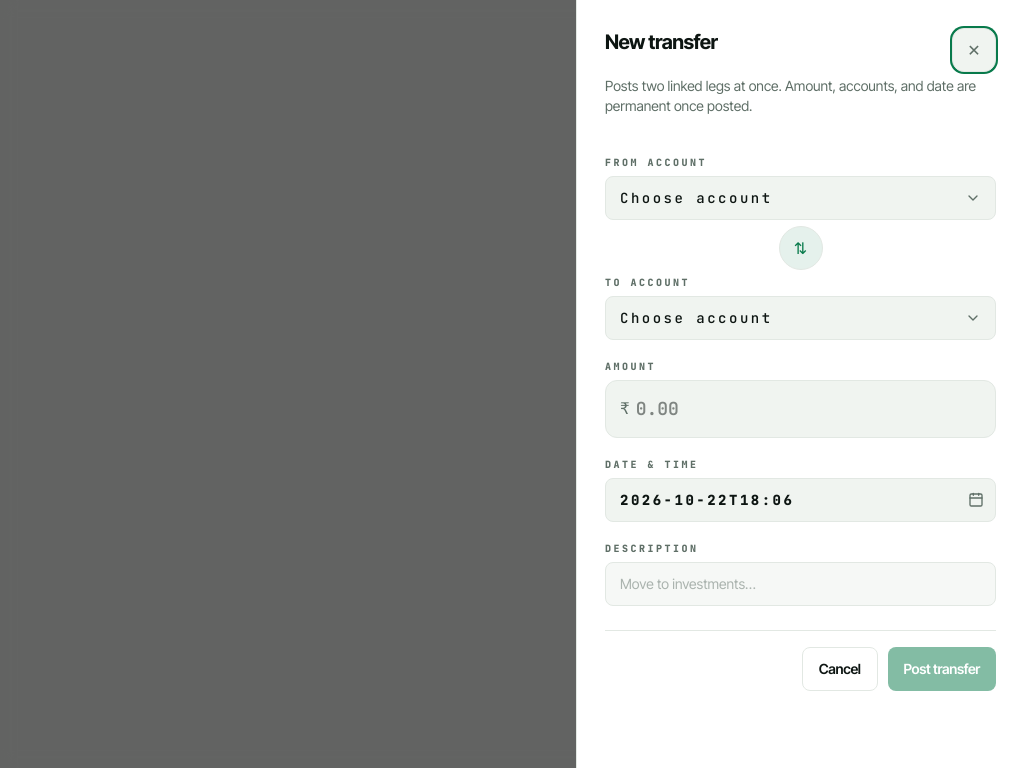
Test: CreateTransferSheet › swaps the from and to accounts
Click the dropdown named "From account" at (696, 198), box [605,176,996,220]
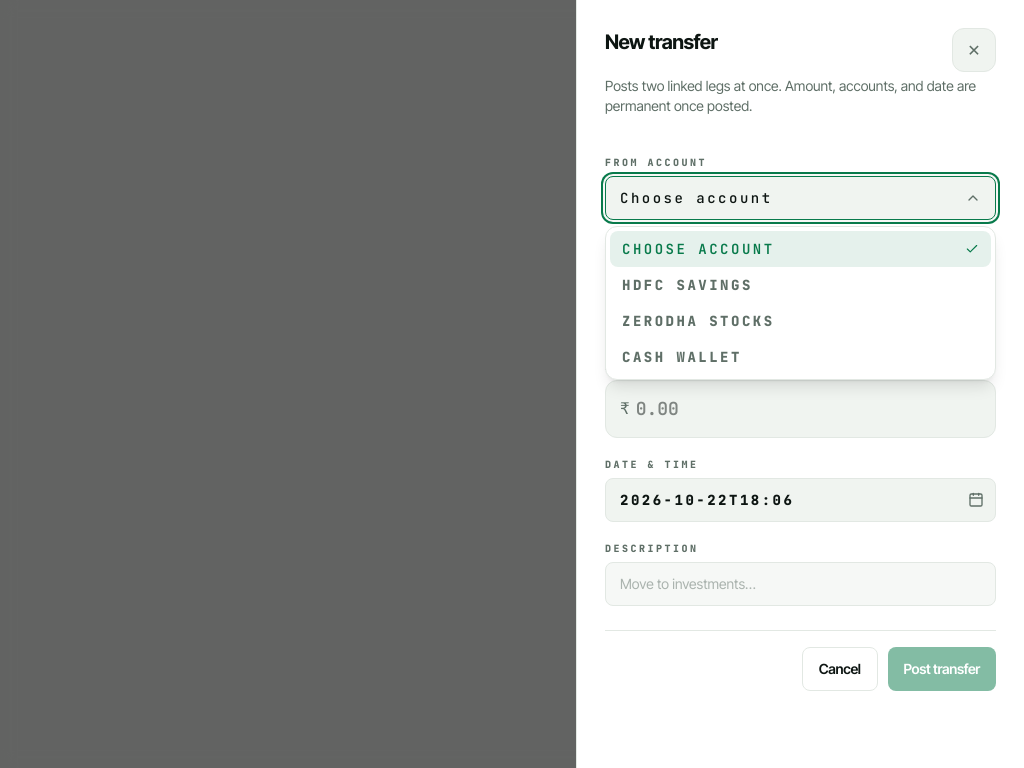
Click the option "HDFC Savings" at (687, 285), box [622,276,753,294]
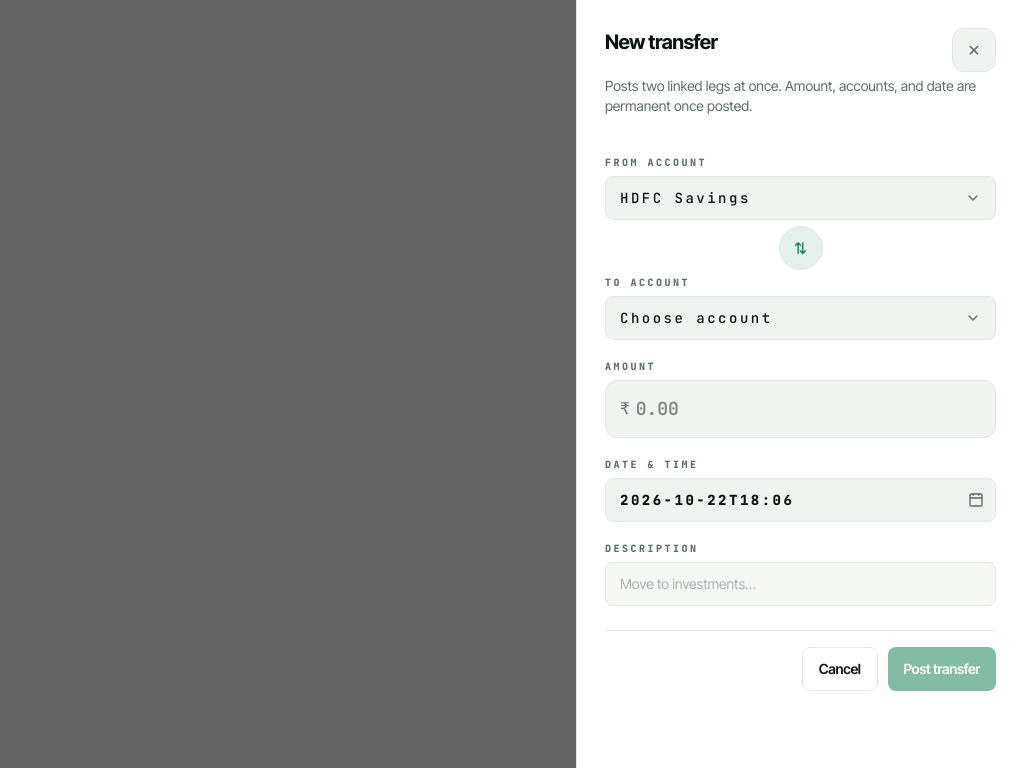
Click the dropdown named "To account" at (696, 318), box [605,296,996,340]
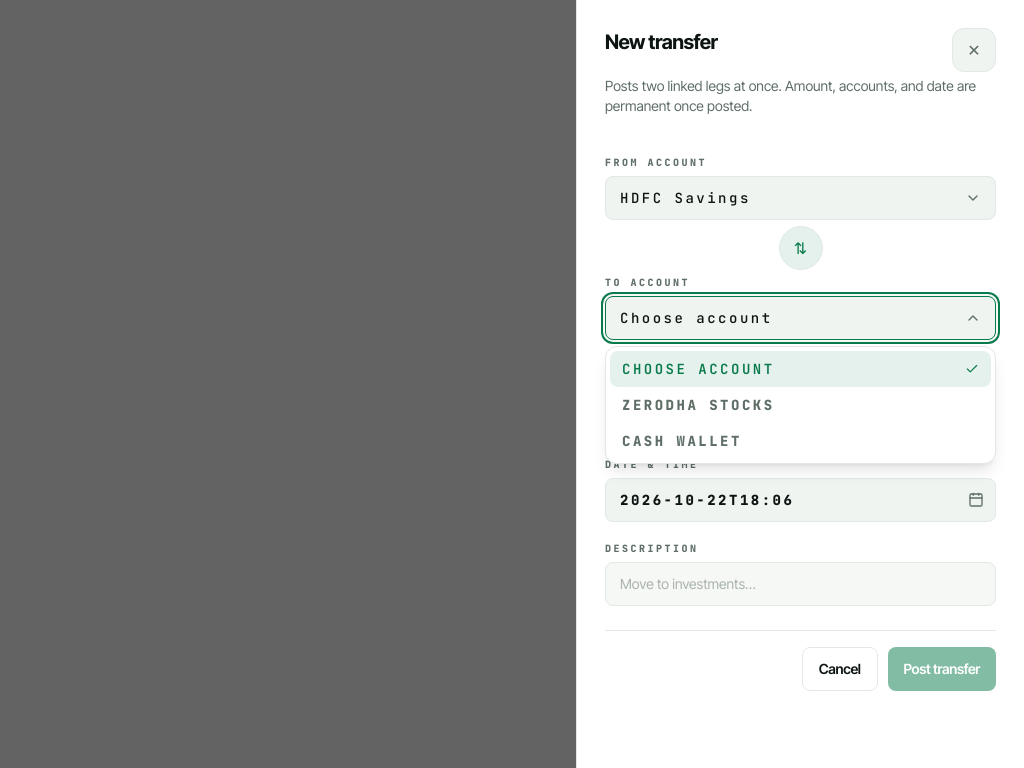
Click the option "Zerodha Stocks" at (698, 405), box [622,396,775,414]
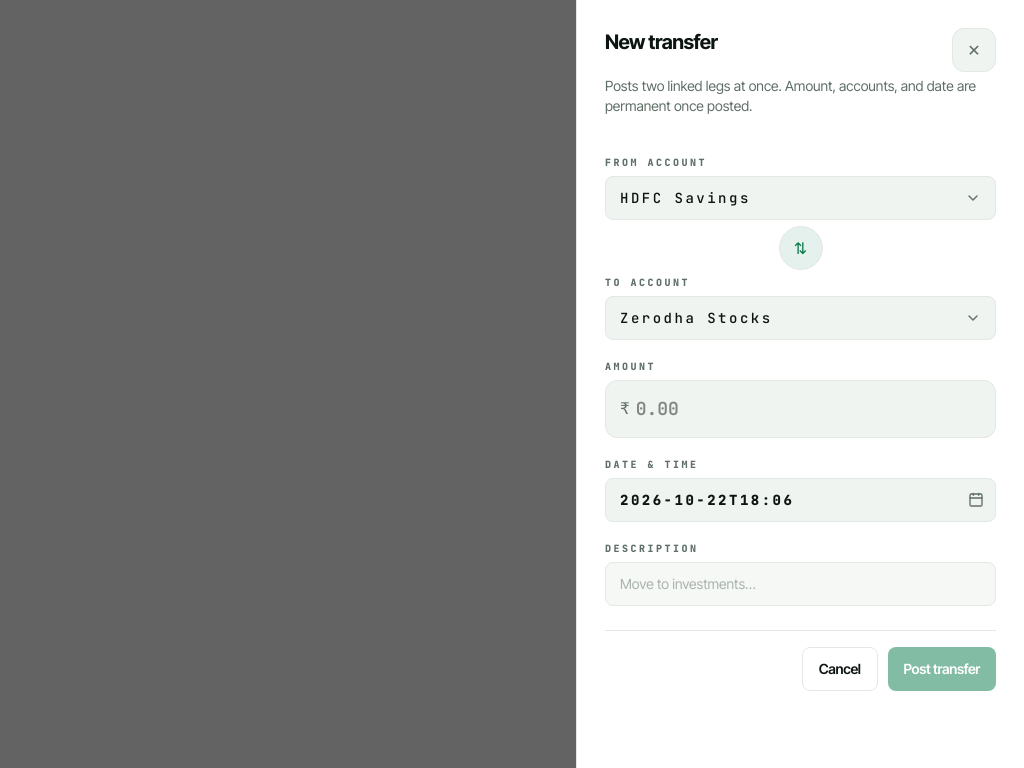
Click the button named "Swap from and to accounts" at (800, 248), box [778,226,822,270]
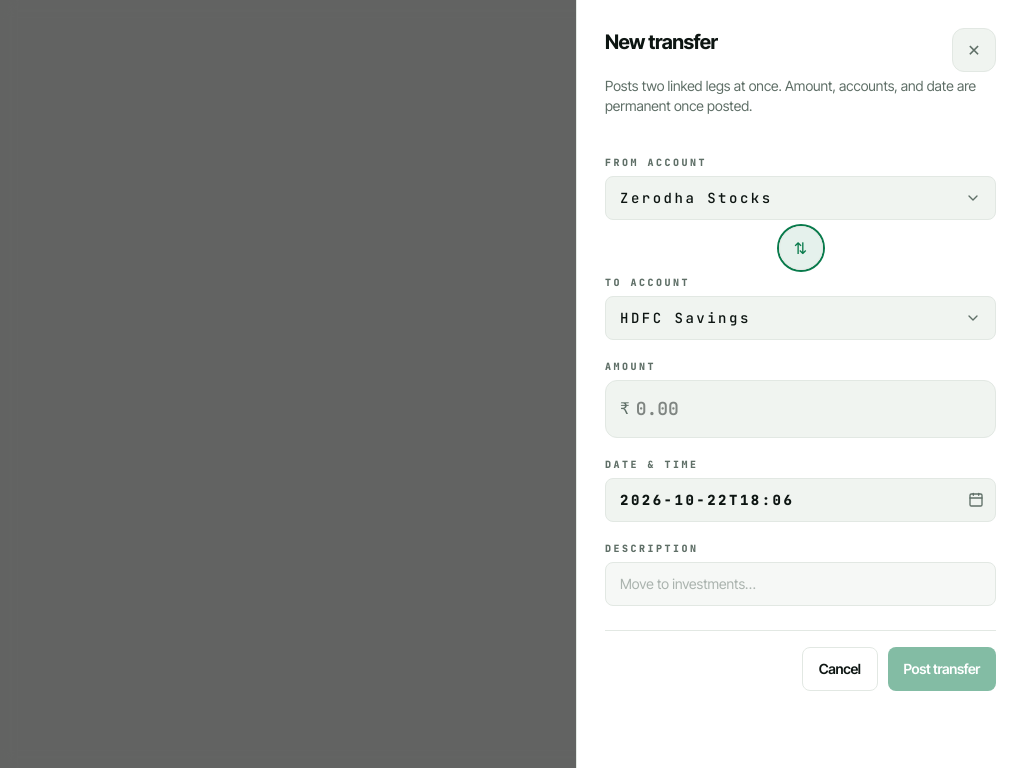
Check: the dropdown named "From account" reads "Zerodha Stocks", box [605,176,996,220]
Check: the dropdown named "To account" reads "HDFC Savings", box [605,296,996,340]
